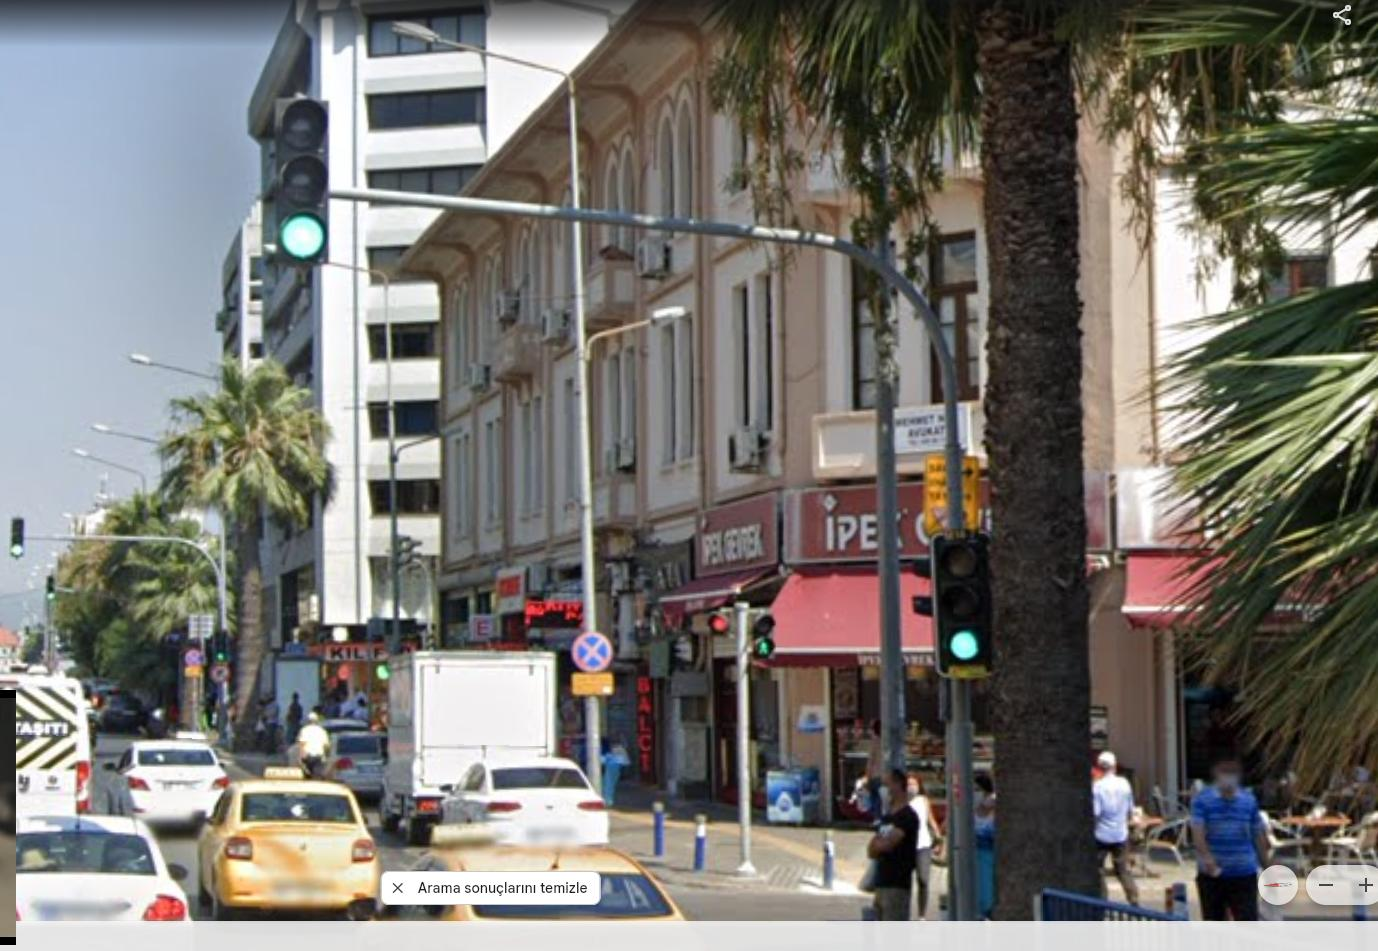greenlight: (933, 530, 990, 674), (280, 99, 326, 262), (8, 516, 26, 557), (213, 628, 229, 664), (46, 575, 57, 605)
redlight: (709, 605, 739, 650)
rightturnsareforbidden: (213, 663, 229, 683)
